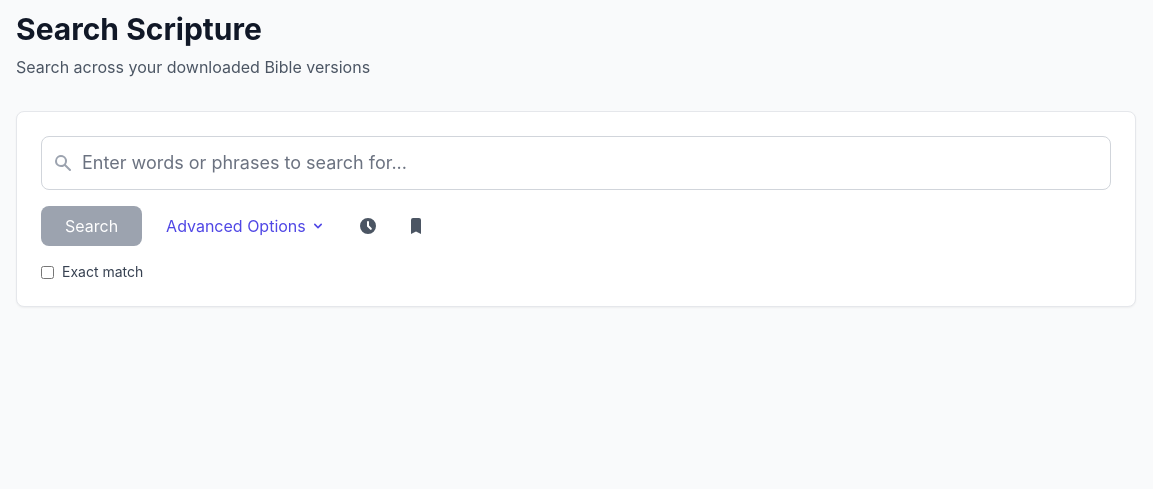
Test: SearchView › advanced options › should display downloaded versions in advanced options
The width and height of the screenshot is (1153, 489).
Click the button "Advanced Options" at (246, 226), box [154,206,338,246]
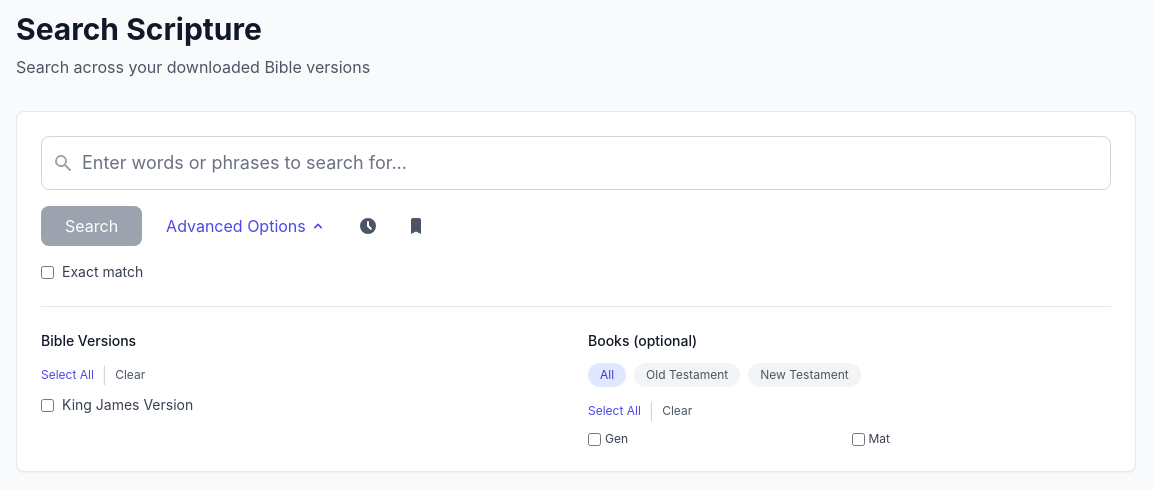
Now the text "King James Version" is shown, box [62,395,193,415]
